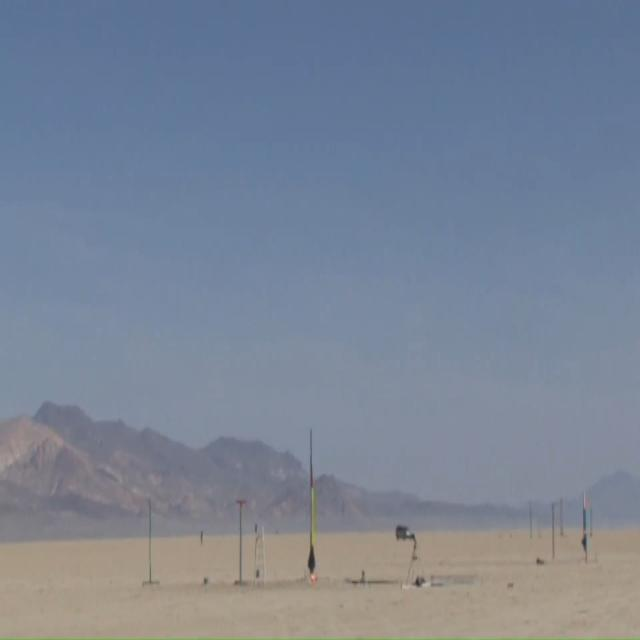Rocket: (308, 463, 315, 578), (581, 492, 587, 550)
